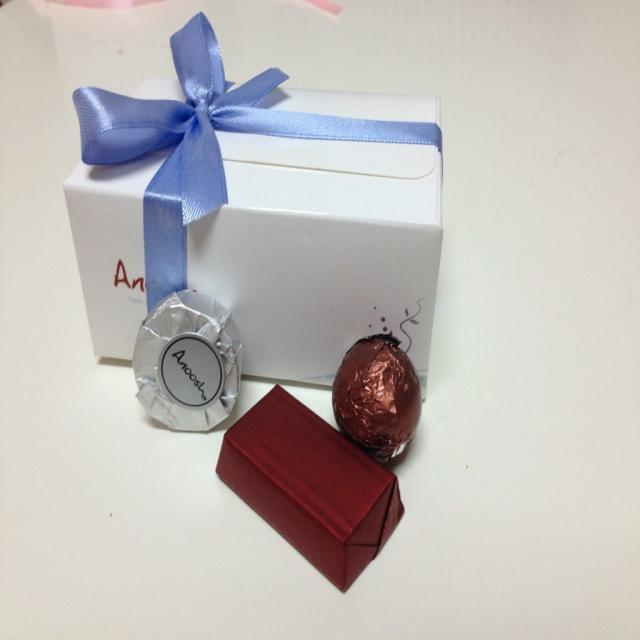Box: (63, 75, 443, 401)
